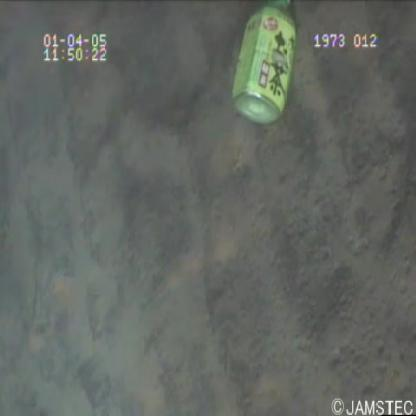Rác: (225, 1, 301, 141)
